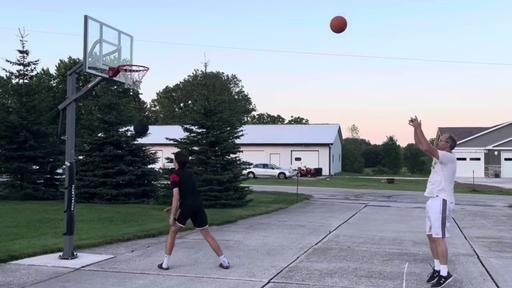ball: (330, 15, 348, 33), (133, 119, 150, 134)
human: (407, 116, 457, 288), (158, 151, 230, 270)
rim: (116, 65, 150, 90)
